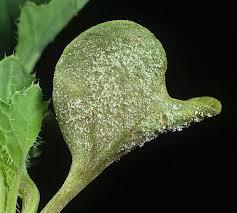Bok-Choy-Diseased: (66, 29, 177, 164)
